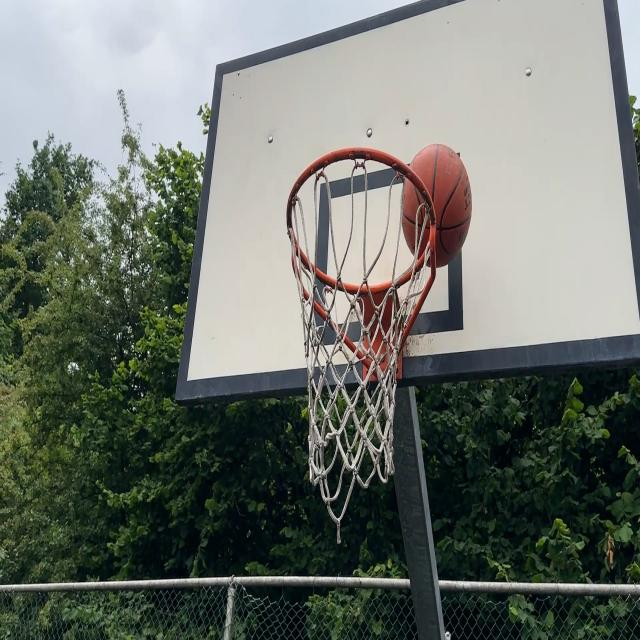rebound_hit: (401, 145, 474, 270)
